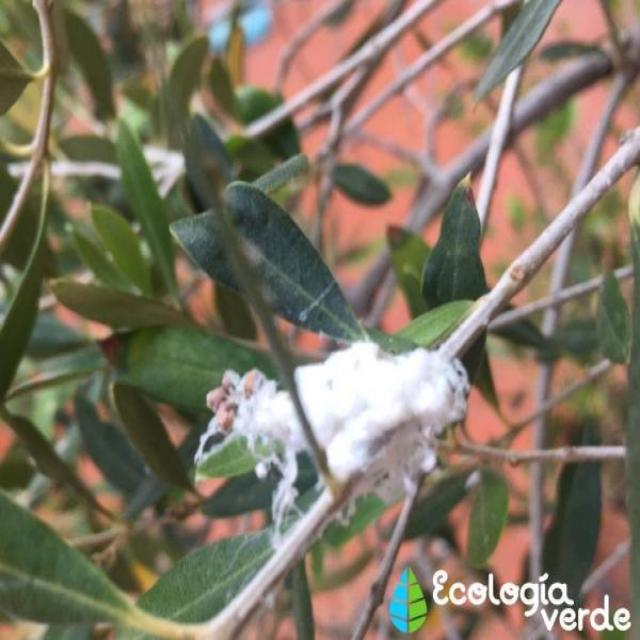Psyllid: (295, 342, 469, 488), (195, 368, 310, 546)
